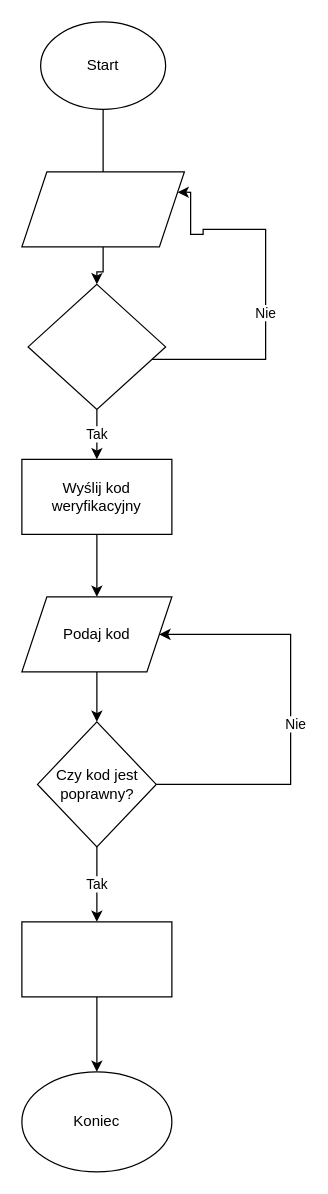
Some shapes in this 328 by 1194 pixel diagram are drawn without their labels. Here are the shapes that lost their labels. From the top down, the centre of each, then its label:
pixel 102 209: Podaj dane (login,hasło,e-mail)
pixel 96 346: Czy dane są poprawne, dostępne?
pixel 96 959: Stwórz konto
